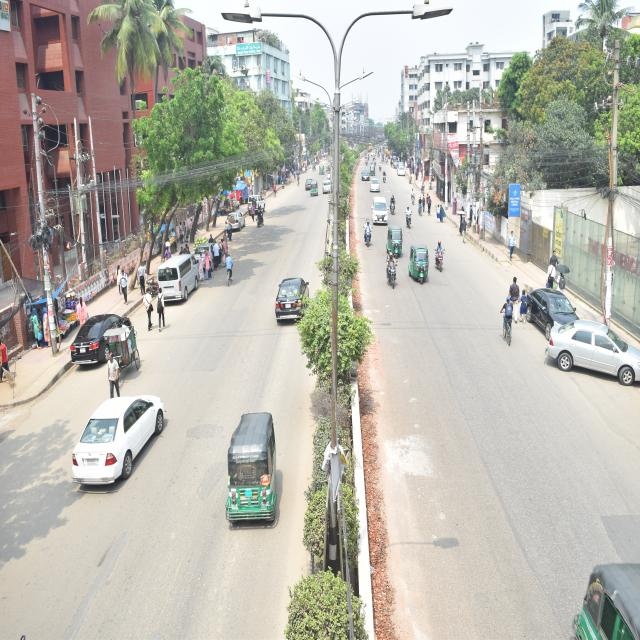car: (65, 380, 174, 497), (542, 312, 640, 406), (60, 300, 162, 380), (518, 268, 577, 344), (262, 255, 317, 336), (184, 222, 222, 278), (222, 201, 253, 243), (245, 183, 269, 224), (304, 170, 319, 204), (356, 161, 370, 188), (318, 180, 338, 198)
microbus: (148, 243, 206, 321), (372, 189, 392, 230)
motorbike: (382, 250, 401, 296), (433, 235, 450, 286), (360, 217, 375, 257), (250, 198, 268, 230), (406, 196, 415, 238), (388, 188, 398, 215), (380, 166, 389, 189)
